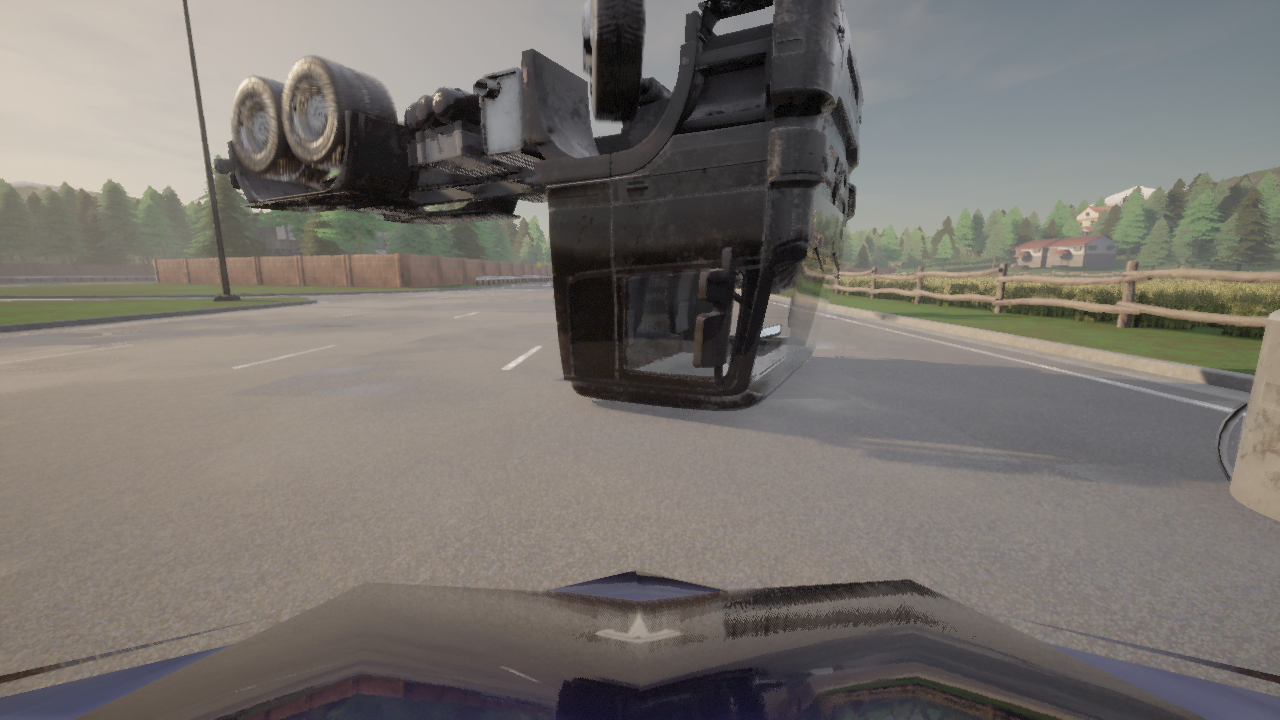cyclist: (213, 0, 862, 411), (0, 569, 1279, 719), (1229, 310, 1279, 522), (1214, 398, 1248, 482)
